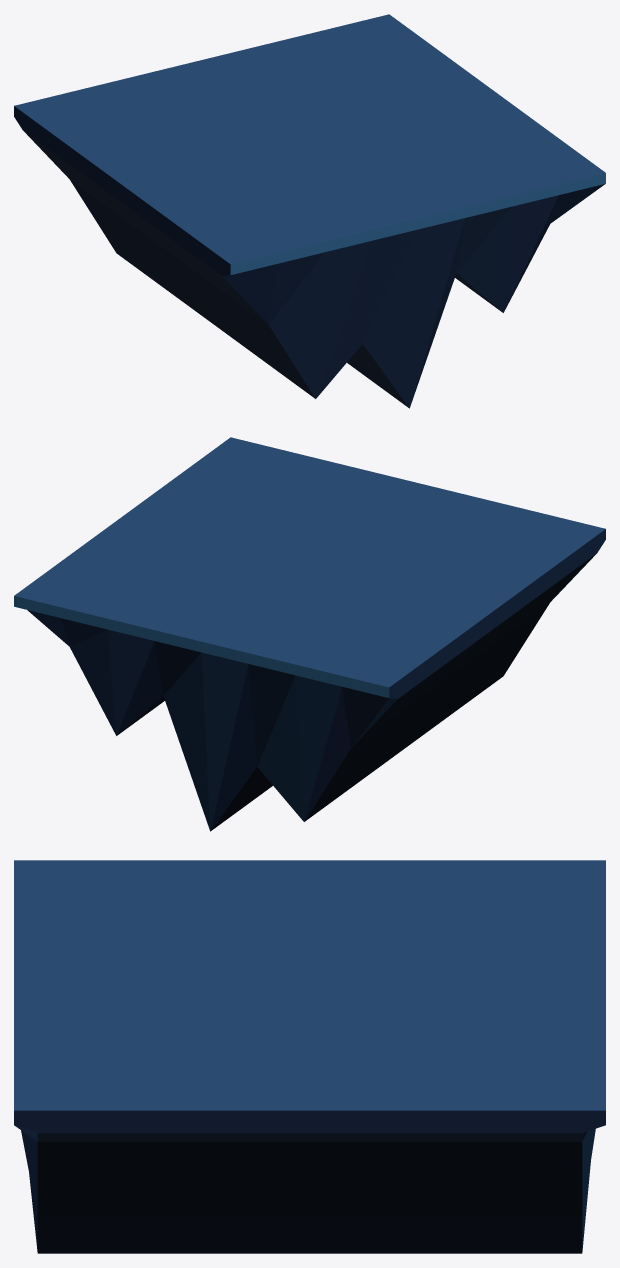
File: ground_short.obj
The picture shows the model from 3 angles, top to bottom: view 1: azimuth 30°, elevation 25°; view 2: azimuth 150°, elevation 25°; view 3: azimuth 270°, elevation 25°; orthographic projection. The views are drawn at different scales.
Visible parts, largest first — view 1: ground_short_M0, ground_short_M5, ground_short_M4, ground_short_M1; view 2: ground_short_M0, ground_short_M3, ground_short_M2, ground_short_M4, ground_short_M1, ground_short_M5; view 3: ground_short_M0, ground_short_M4, ground_short_M5, ground_short_M3.
Part boxes in pixels (x1,y1,x2,y2): ground_short_M0: (14,14,605,264); ground_short_M5: (14,106,604,408); ground_short_M4: (23,130,502,408); ground_short_M1: (230,173,605,274); ground_short_M0: (14,437,605,687); ground_short_M3: (70,629,397,830); ground_short_M2: (27,610,388,830); ground_short_M4: (117,553,596,831); ground_short_M1: (14,596,389,697); ground_short_M5: (389,529,605,698); ground_short_M0: (14,860,605,1110); ground_short_M4: (37,1133,582,1253); ground_short_M5: (14,1110,605,1251); ground_short_M3: (582,1128,595,1251).
Bounding box in the file's own units: 2 × 1 × 2.
